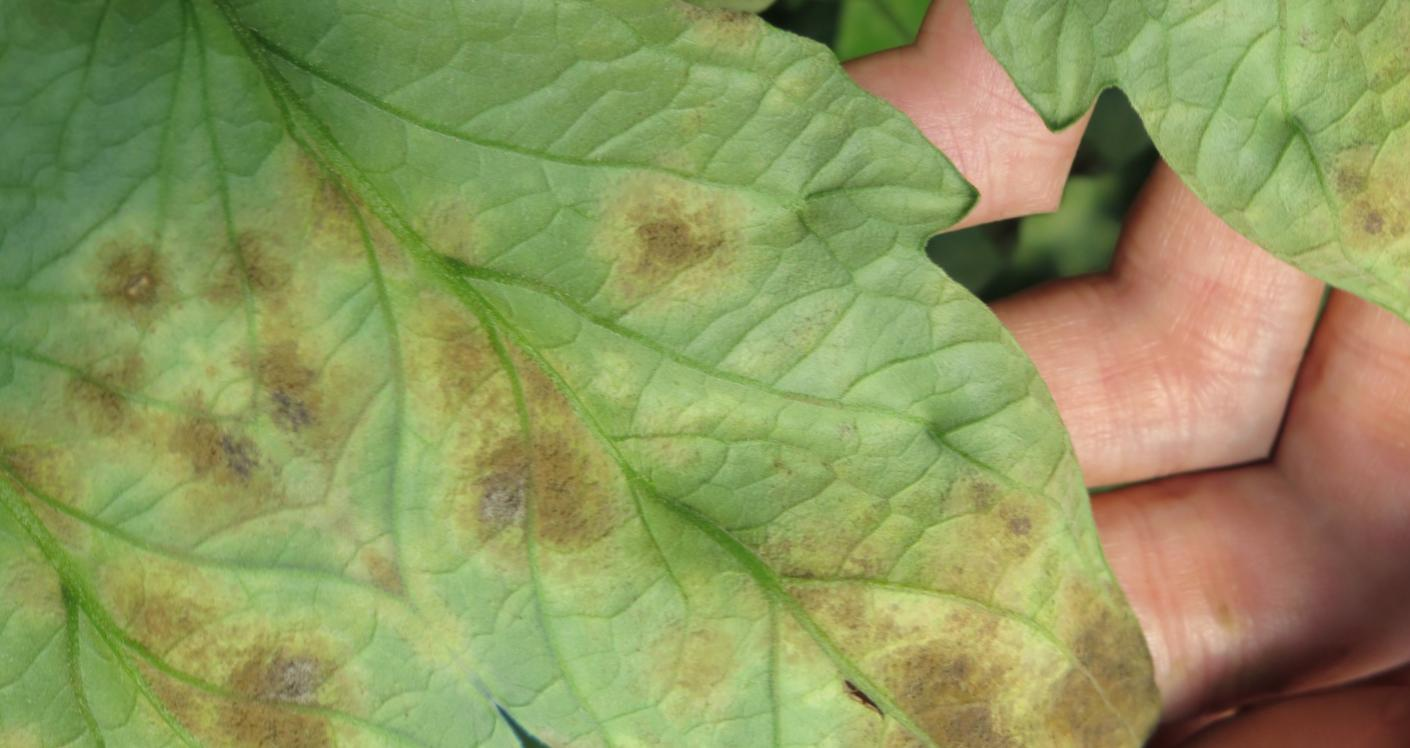Tomato mold leaf: (0, 0, 1389, 748)
